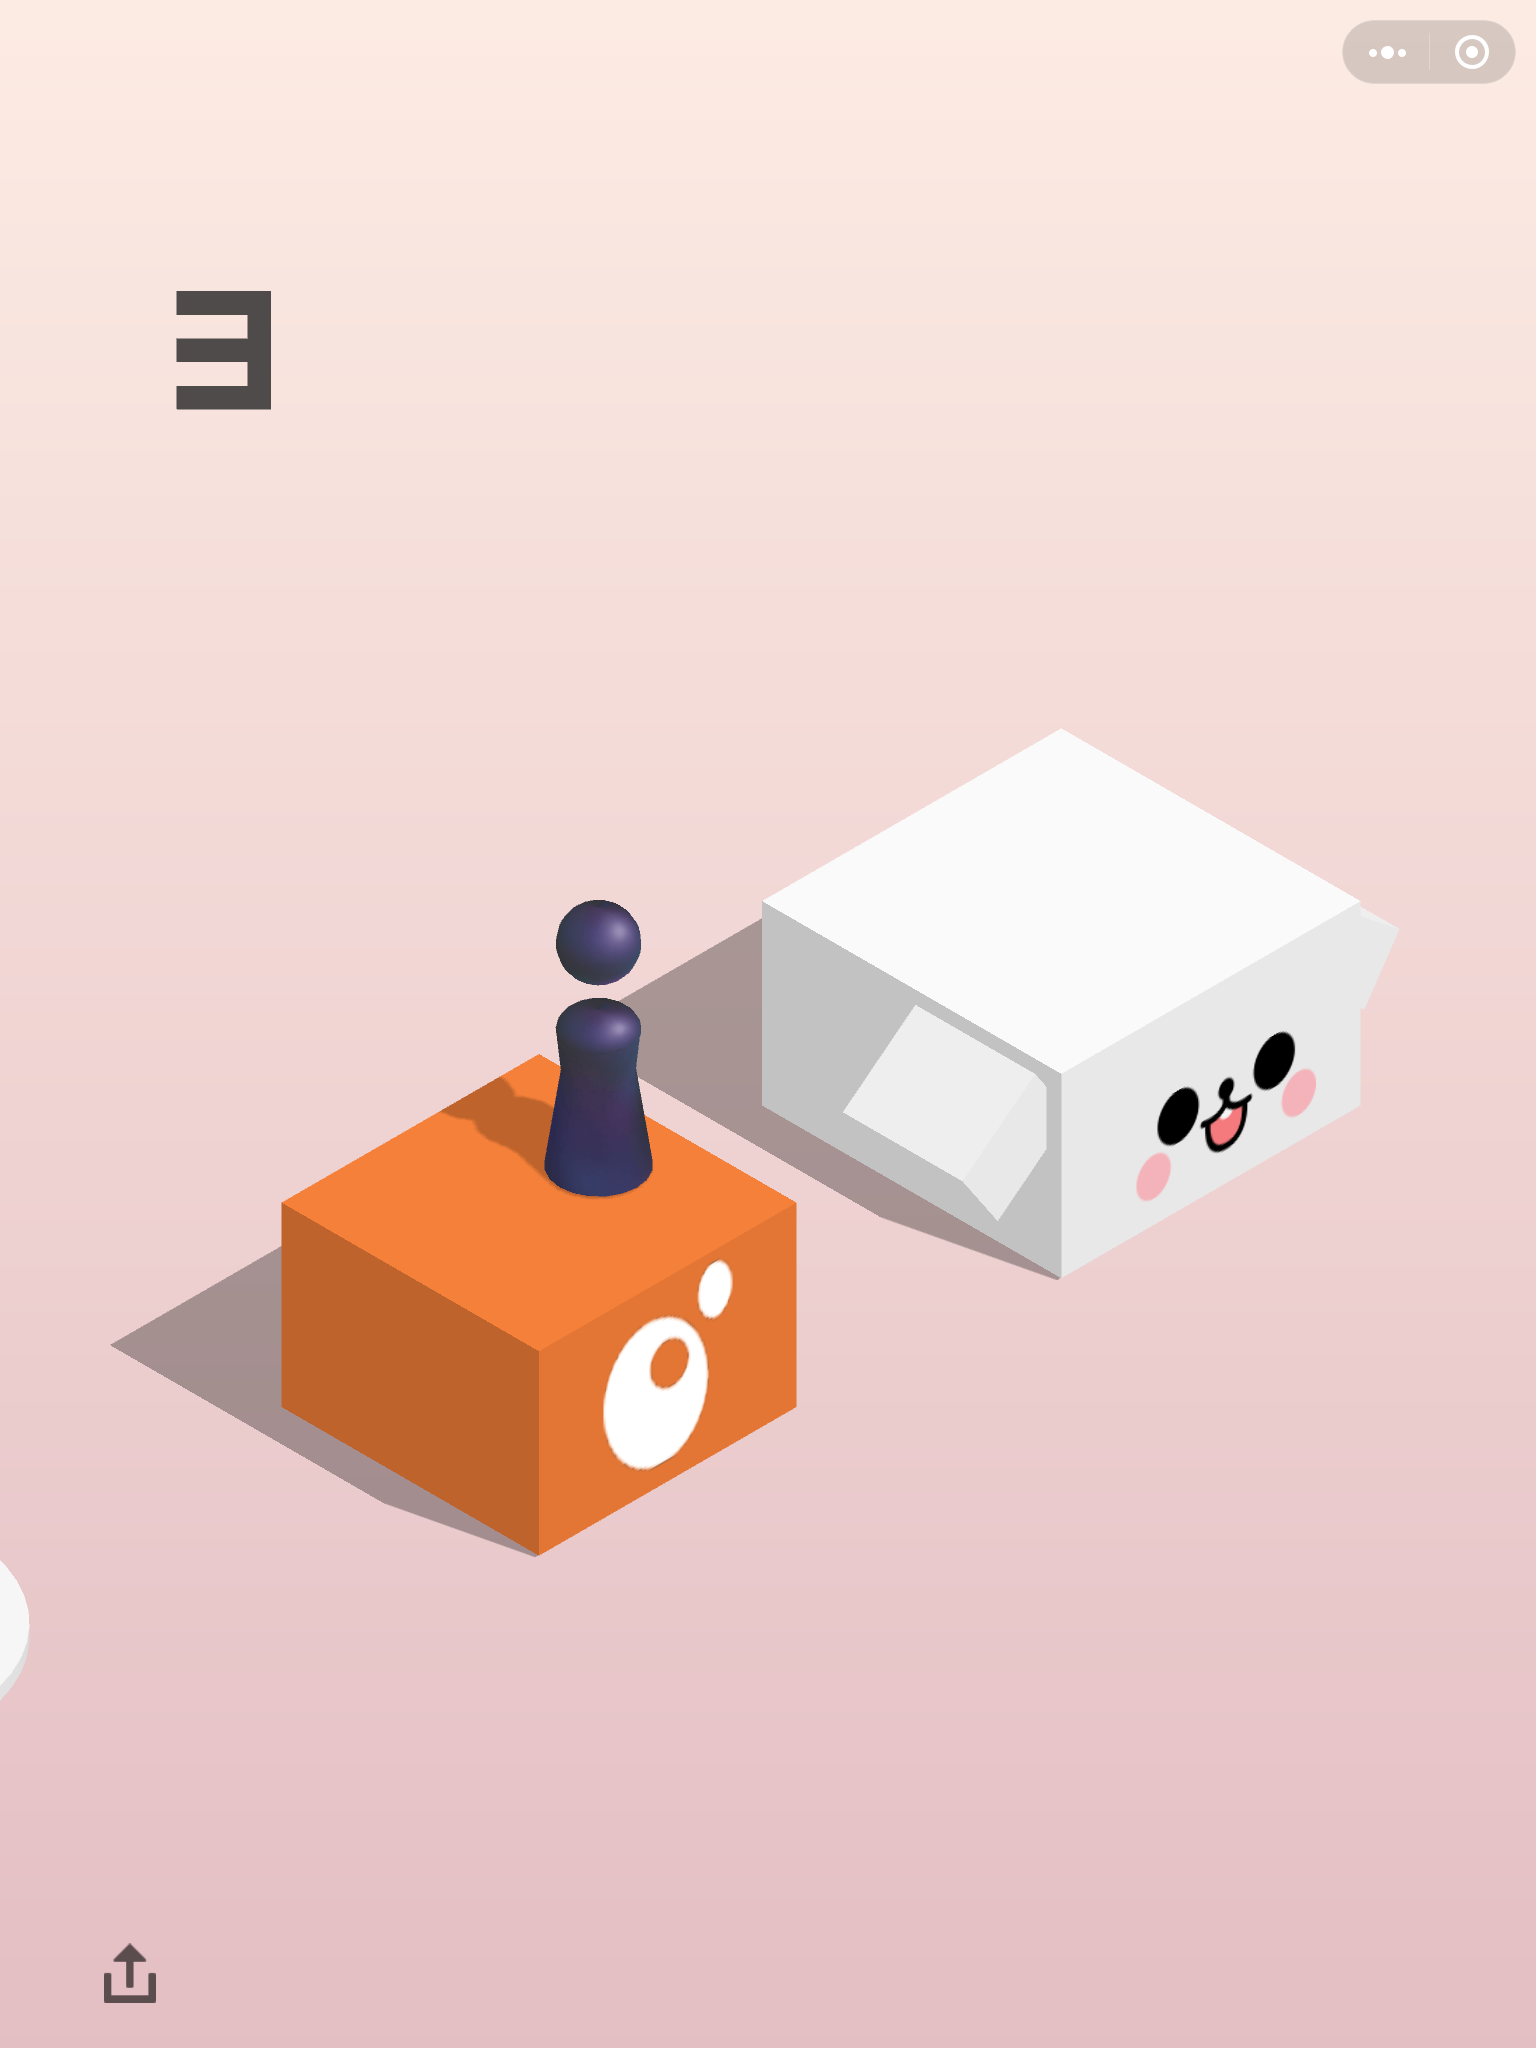f: (755, 726, 1397, 1284), (274, 1048, 800, 1556)
r: (537, 893, 657, 1200)
